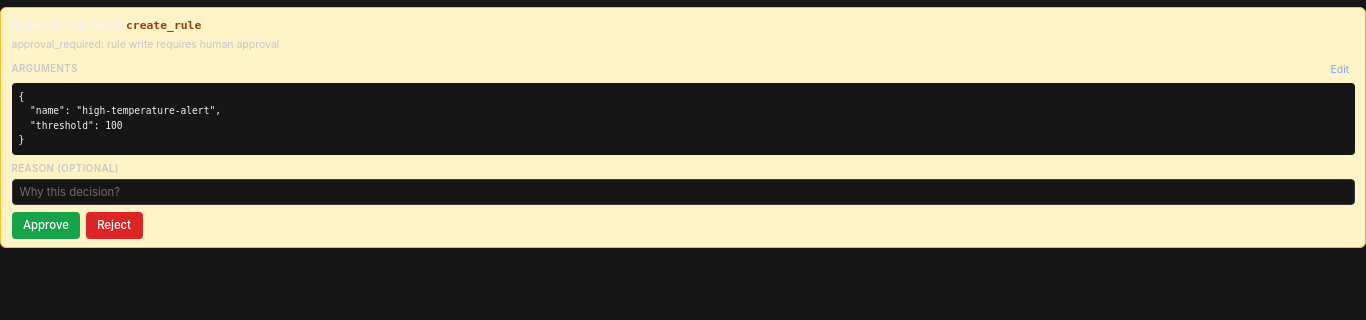
Test: PendingApprovalSection › modify path › rejects malformed JSON without firing the request
Click the button with test id "approval-edit-args" at (1340, 70), box [1325,60,1354,79]
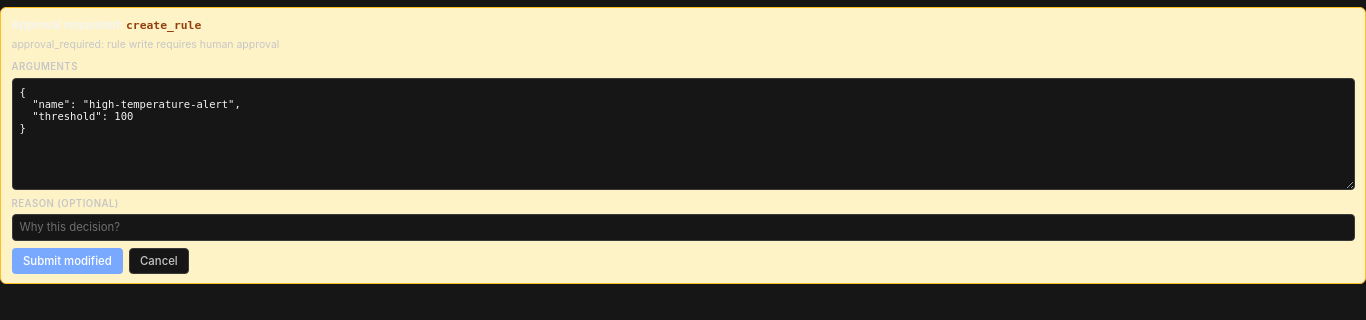
Replace the text in the text box with test id "approval-args-editor" with "not-json" at (683, 134), box [12,78,1354,190]
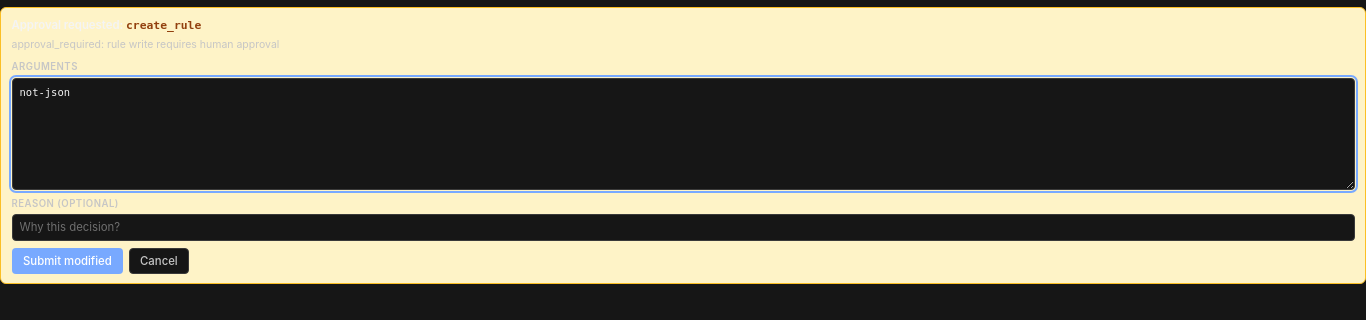
Click the button with test id "approval-submit-modify" at (67, 261), box [12,248,123,274]
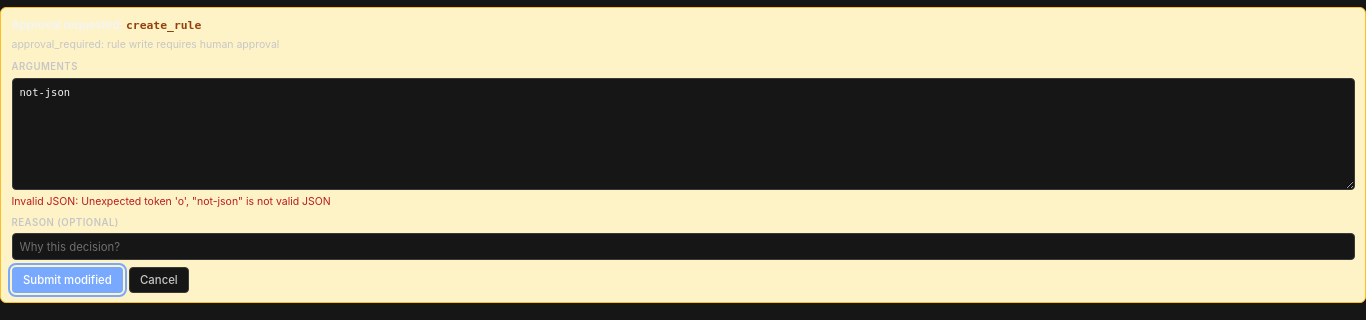
Check: the message with test id "approval-args-error" shows "Invalid JSON", box [12,194,331,208]
